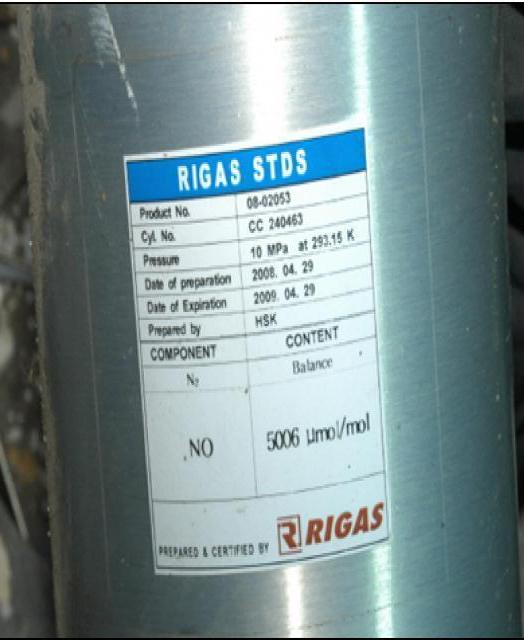cylinder: (1, 0, 524, 640)
